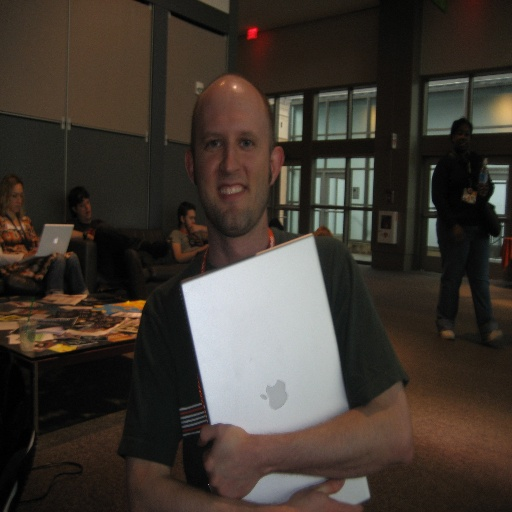hand: (193, 420, 272, 495), (286, 479, 364, 511), (24, 248, 37, 258), (188, 225, 199, 235)
